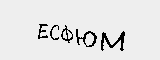Б: (124, 15, 139, 40)
Ж: (57, 14, 94, 34)
Т: (92, 13, 108, 34)
Ч: (109, 12, 127, 36)
Э: (15, 18, 30, 34)
Ң: (31, 15, 59, 38)
